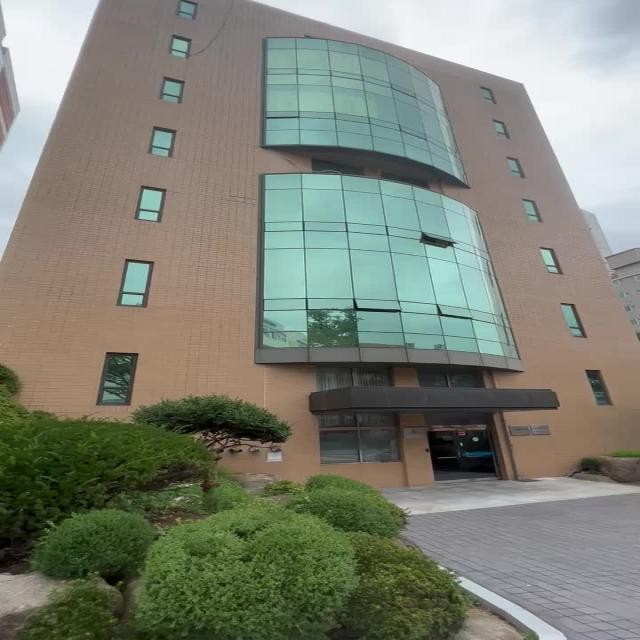building: (42, 21, 602, 429)
